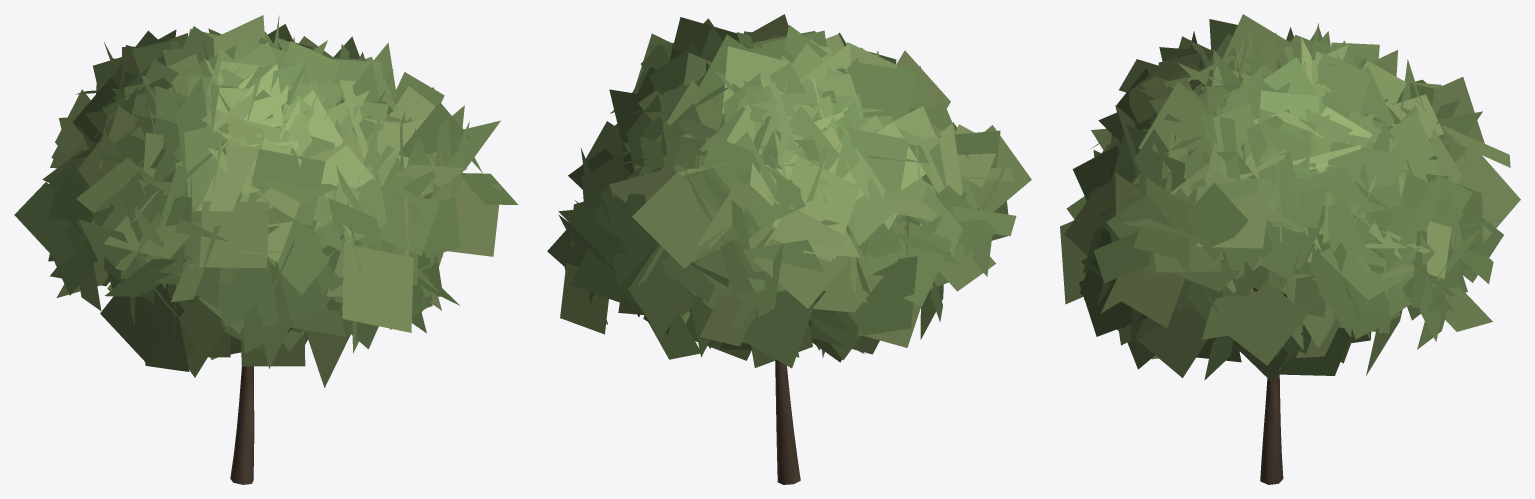
Rendered from broadleaf_1.glb.
3 renders of one model, left to right at view 1: azimuth 30°, elevation 25°; view 2: azimuth 150°, elevation 25°; view 3: azimuth 270°, elevation 25°, orthographic.
Parts seen in each view (by area): view 1: broadleaf_1; view 2: broadleaf_1; view 3: broadleaf_1.
Part boxes in pixels (x1=…): broadleaf_1: x1=14, y1=15, x2=518, y2=484; broadleaf_1: x1=547, y1=14, x2=1031, y2=484; broadleaf_1: x1=1060, y1=14, x2=1520, y2=484.
Size of the model in its own units: 1 by 1 by 0.9336.
